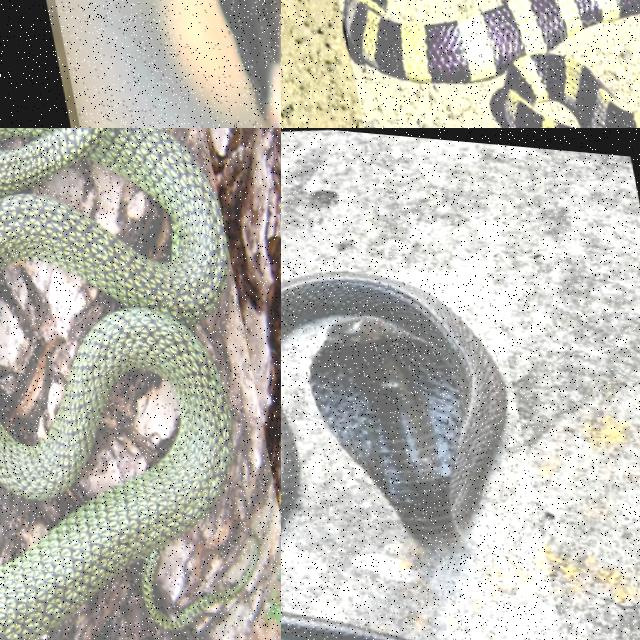Bungarus fasciatus: (343, 0, 639, 127)
Chrysopelea ornata: (0, 128, 232, 639)
Naja siamensis: (281, 274, 506, 544)
Ophiophagus hannah: (61, 0, 196, 127)
